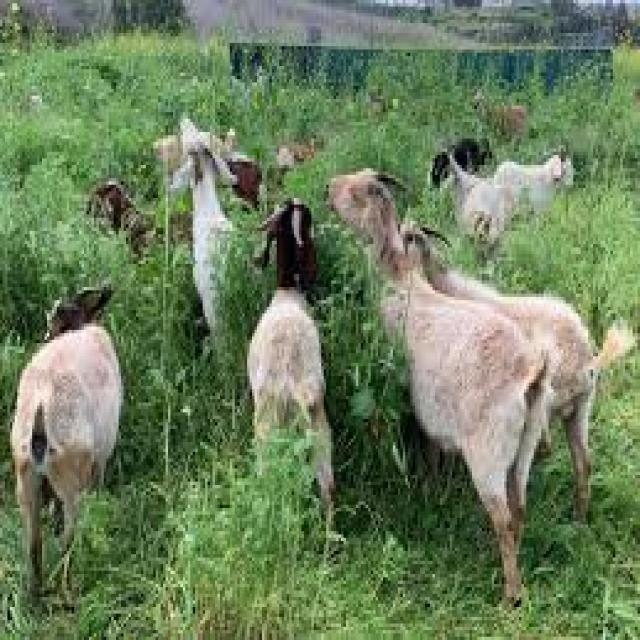Goat: (330, 173, 596, 578), (14, 292, 122, 602), (251, 198, 335, 537)
